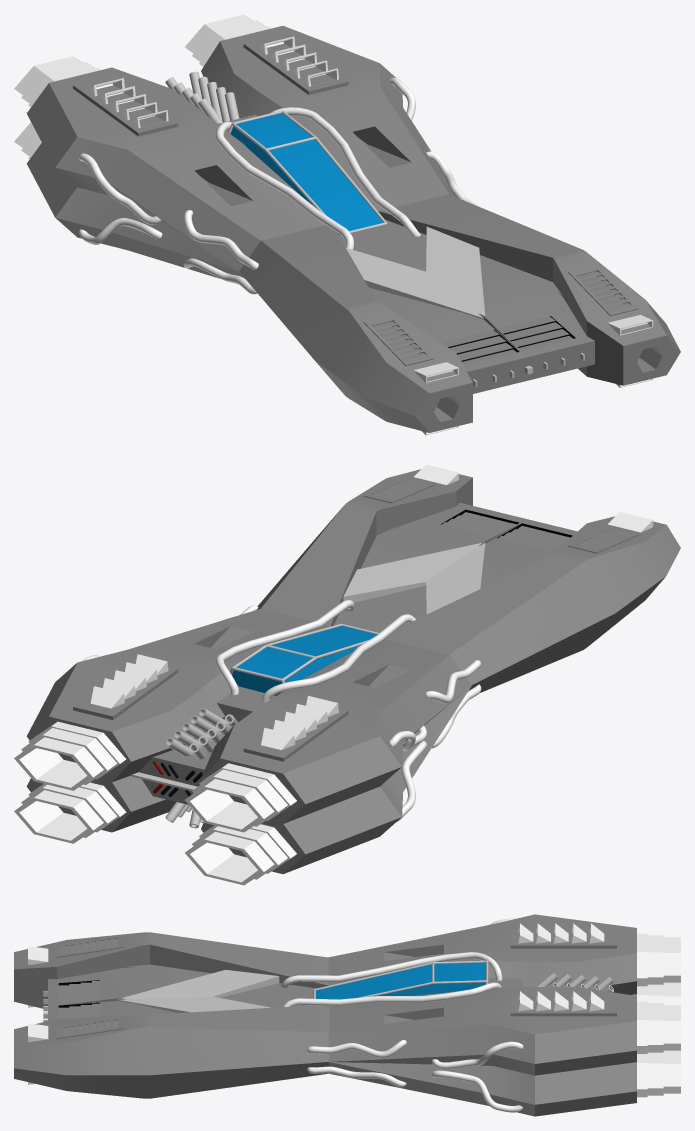
Rendered from Gydra.obj.
3 renders of one model, top to bottom at view 1: azimuth 30°, elevation 25°; view 2: azimuth 150°, elevation 25°; view 3: azimuth 270°, elevation 25°, orthographic. The views are drawn at different scales.
Parts seen in each view (by area): view 1: Symmetry, Cube_2, Cube.1_2, Cube.1_1, Sweep_2, Sweep_1, Sweep, Tube_6, Tube_7, Cube, Cube.1, Tube_5; view 2: Symmetry, Tube_7, Cube.1_2, Tube_6, Cube_2, Sweep_2, Tube_5, Cube.1_1, Sweep_1, Cube.1, Sweep, Cube (+7 smaller); view 3: Symmetry, Cube.1_2, Cube_2, Sweep_2, Tube_7, Tube_6, Cube.1_1, Tube_5, Sweep_1, Sweep, Cube, Cube.1 (+5 smaller).
Boxes of the visible parts, x1,y1,x2,y2 form: Symmetry: [26, 25, 680, 432]; Cube_2: [230, 113, 383, 230]; Cube.1_2: [346, 226, 485, 319]; Cube.1_1: [73, 34, 348, 136]; Sweep_2: [215, 107, 420, 249]; Sweep_1: [79, 77, 415, 244]; Sweep: [183, 151, 479, 294]; Tube_6: [21, 20, 265, 156]; Tube_7: [14, 14, 253, 147]; Cube: [228, 110, 387, 235]; Cube.1: [413, 314, 653, 435]; Tube_5: [28, 26, 271, 158]; Symmetry: [26, 469, 680, 874]; Tube_7: [14, 737, 274, 885]; Cube.1_2: [343, 543, 485, 614]; Tube_6: [21, 728, 287, 879]; Cube_2: [232, 626, 377, 695]; Sweep_2: [215, 600, 415, 702]; Tube_5: [28, 721, 296, 873]; Cube.1_1: [73, 661, 348, 761]; Sweep_1: [83, 655, 426, 821]; Cube.1: [413, 464, 653, 532]; Sweep: [224, 605, 481, 748]; Cube: [230, 623, 378, 683]; Symmetry: [14, 914, 636, 1116]; Cube.1_2: [117, 969, 279, 1012]; Cube_2: [316, 962, 485, 999]; Sweep_2: [281, 952, 502, 1006]; Tube_7: [663, 937, 680, 1093]; Tube_6: [647, 935, 663, 1095]; Cube.1_1: [510, 929, 616, 1016]; Tube_5: [637, 933, 647, 1097]; Sweep_1: [431, 918, 523, 1112]; Sweep: [307, 1039, 406, 1087]; Cube: [313, 960, 488, 998]; Cube.1: [28, 946, 48, 1084].
Size of the model in its own units: 4.96 by 1.76 by 10.13.
